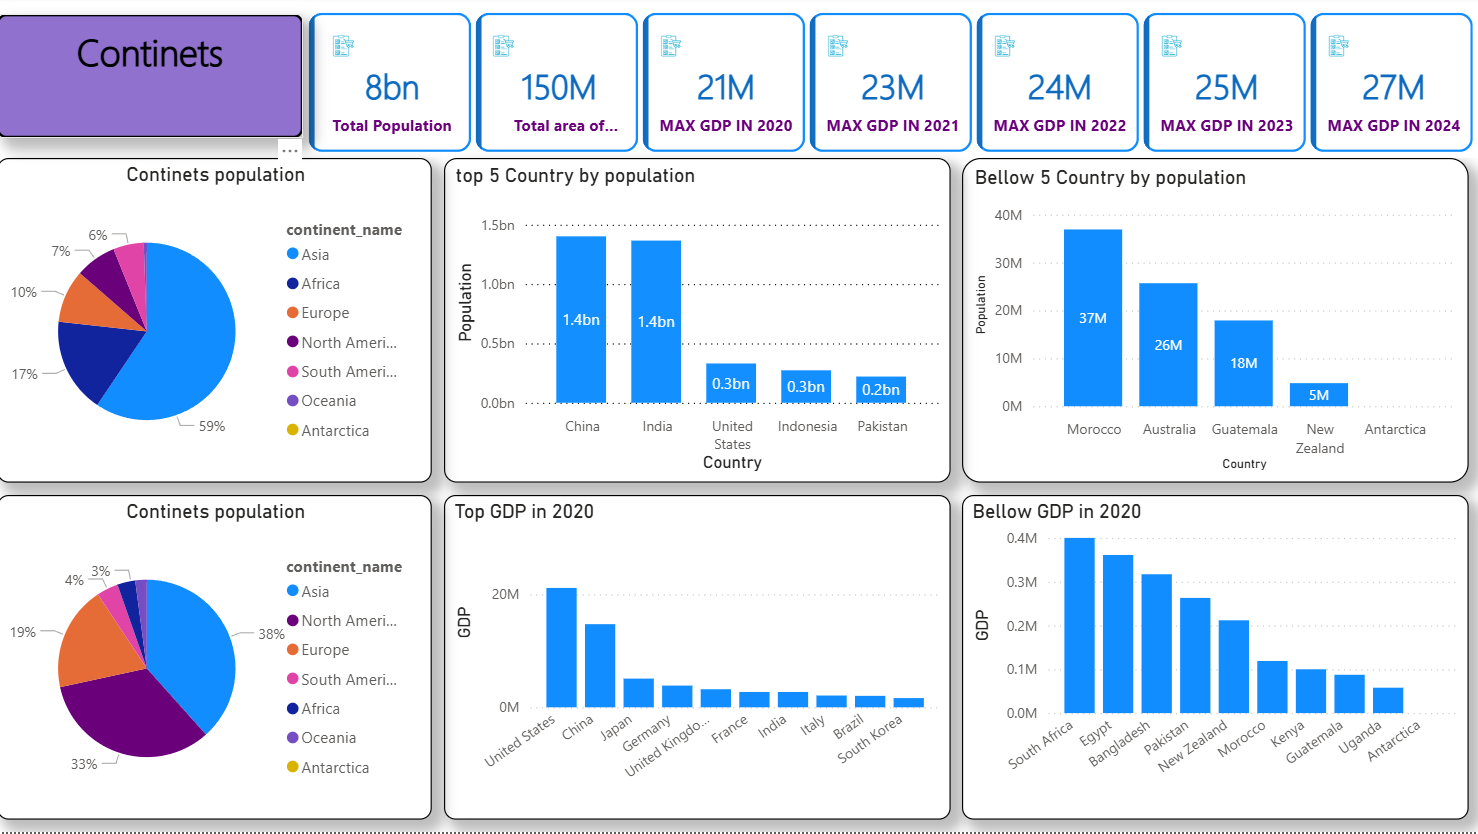

Layout of this report page (visuals, bound fields, positions):
{"tool":"powerbi","page":{"name":"Page 1","canvas":[1280,720],"ordinal":0},"visuals":[{"type":"columnChart","title":"Bellow 5 Country by population","fields":{"Category":["country.country_name"],"Y":["Sum(country.population)"]},"box":[832.6,139.1,436.7,280.1],"z":0},{"type":"cardVisual","fields":{"Data":["continent.Total Population","continent.Total area of continent","gdp_in_2020.MAX GDP IN 2020","gdp_in_2021.MAX GDP IN 2021","gdp_in_2022.MAX GDP IN 2022","gdp_in_2023.MAX GDP IN 2023","gdp_in_2024.MAX GDP IN 2024"]},"box":[263.6,8.8,1016.4,130.3],"z":1000},{"type":"columnChart","title":"top 5 Country by population","fields":{"Category":["country.country_name"],"Y":["Sum(country.population)"]},"box":[385.2,139.1,436.7,280.1],"z":2000},{"type":"pieChart","title":"Continets population","fields":{"Category":["continent.continent_name"],"Y":["continent.Total Population"]},"box":[0,139.1,375.4,280.1],"z":3000},{"type":"columnChart","title":"Top GDP in 2020","fields":{"Category":["country.country_name"],"Y":["Sum(gdp_in_2020.gdp)"]},"box":[385.2,429.9,436.7,280.1],"z":4000},{"type":"columnChart","title":"Bellow GDP in 2020","fields":{"Category":["country.country_name"],"Y":["Sum(gdp_in_2020.gdp)"]},"box":[832.6,429.9,436.7,280.1],"z":5000},{"type":"pieChart","title":"Continets population","fields":{"Category":["continent.continent_name"],"Y":["Sum(gdp_in_2021.gdp)"]},"box":[0,429.9,375.4,280.1],"z":6000},{"type":"textbox","box":[0,14.7,263.9,107],"z":6001}]}

Visuals, with their boxes in screenshot pixels (x1, y1, x2, y2), scaled from the page's 1280x720 canvas onto the 1478x834 screenshot:
"Bellow 5 Country by population" columnChart: detection(961, 161, 1466, 486)
cardVisual - continent.Total Population x continent.Total area of continent: detection(304, 10, 1477, 161)
"top 5 Country by population" columnChart: detection(445, 161, 949, 486)
"Continets population" pieChart: detection(0, 161, 433, 486)
"Top GDP in 2020" columnChart: detection(445, 498, 949, 822)
"Bellow GDP in 2020" columnChart: detection(961, 498, 1466, 822)
"Continets population" pieChart: detection(0, 498, 433, 822)
textbox: detection(0, 17, 305, 141)
